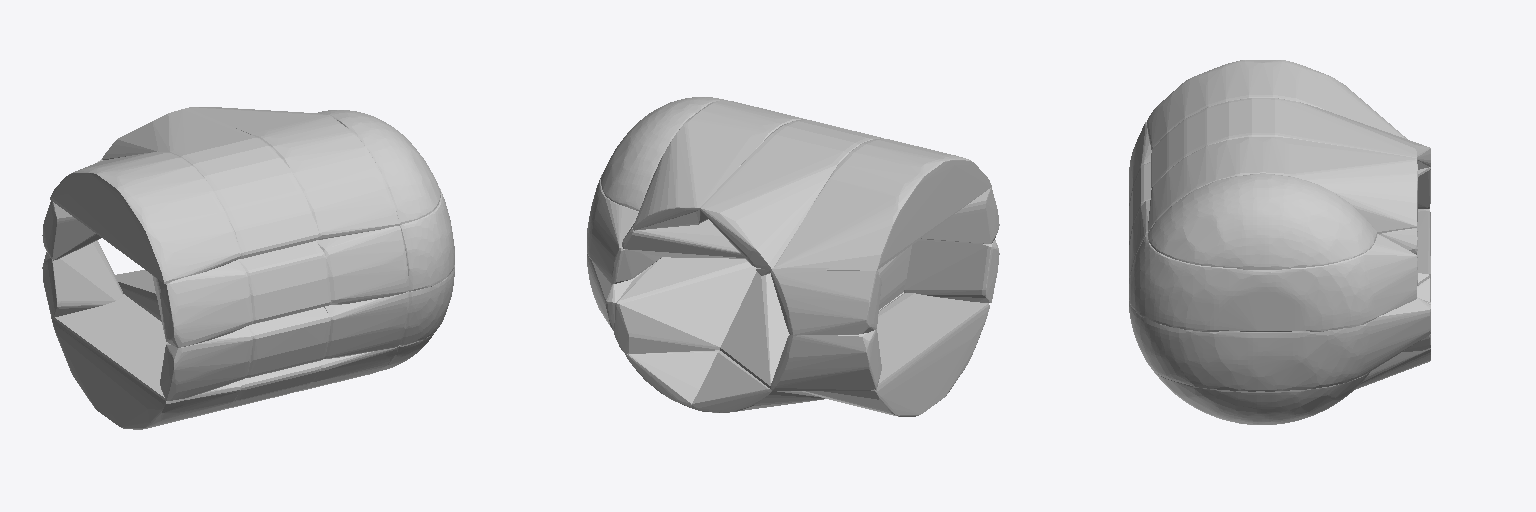
Rendered from hip-yaw-housing_split.obj.
3 renders of one model, left to right at view 1: azimuth 30°, elevation 25°; view 2: azimuth 150°, elevation 25°; view 3: azimuth 270°, elevation 25°, orthographic.
Visible parts, largest first — view 1: geometry_5, geometry_9, geometry_0, geometry_13, geometry_4, geometry_12, geometry_7, geometry_8, geometry_17, geometry_1, geometry_2, geometry_11 (+5 smaller); view 2: geometry_5, geometry_9, geometry_0, geometry_11, geometry_13, geometry_3, geometry_7, geometry_2, geometry_17, geometry_1, geometry_16, geometry_6 (+4 smaller); view 3: geometry_16, geometry_17, geometry_15, geometry_13, geometry_9, geometry_5, geometry_14, geometry_12, geometry_10, geometry_8, geometry_2, geometry_4.
Boxes of the visible parts, box(x1,y1,x2,y2) form: geometry_5: box(50, 151, 240, 283); geometry_9: box(102, 108, 319, 258); geometry_0: box(52, 294, 241, 429); geometry_13: box(189, 107, 399, 239); geometry_4: box(152, 260, 252, 347); geometry_12: box(316, 226, 408, 304); geometry_7: box(115, 270, 330, 377); geometry_8: box(238, 241, 331, 324); geometry_17: box(318, 110, 440, 225); geometry_1: box(160, 326, 252, 400); geometry_2: box(42, 240, 122, 320); geometry_11: box(324, 292, 408, 358); geometry_5: box(775, 138, 991, 270); geometry_9: box(700, 119, 880, 270); geometry_0: box(802, 293, 989, 416); geometry_11: box(614, 257, 756, 354); geometry_13: box(633, 100, 802, 230); geometry_3: box(770, 267, 881, 335); geometry_7: box(720, 245, 911, 388); geometry_2: box(771, 329, 881, 390); geometry_17: box(601, 97, 727, 210); geometry_1: box(904, 240, 999, 302); geometry_16: box(587, 175, 661, 284); geometry_6: box(692, 292, 903, 412); geometry_16: box(1129, 234, 1417, 331); geometry_17: box(1148, 173, 1376, 269); geometry_15: box(1129, 297, 1430, 391); geometry_13: box(1148, 137, 1417, 233); geometry_9: box(1151, 98, 1430, 187); geometry_5: box(1147, 60, 1406, 149); geometry_14: box(1153, 370, 1369, 424); geometry_12: box(1129, 200, 1417, 283); geometry_10: box(1355, 348, 1430, 389); geometry_8: box(1129, 162, 1430, 244); geometry_2: box(1417, 209, 1430, 276); geometry_4: box(1129, 122, 1151, 205).
Size of the model in its own units: 0.1028 by 0.0754 by 0.0854.